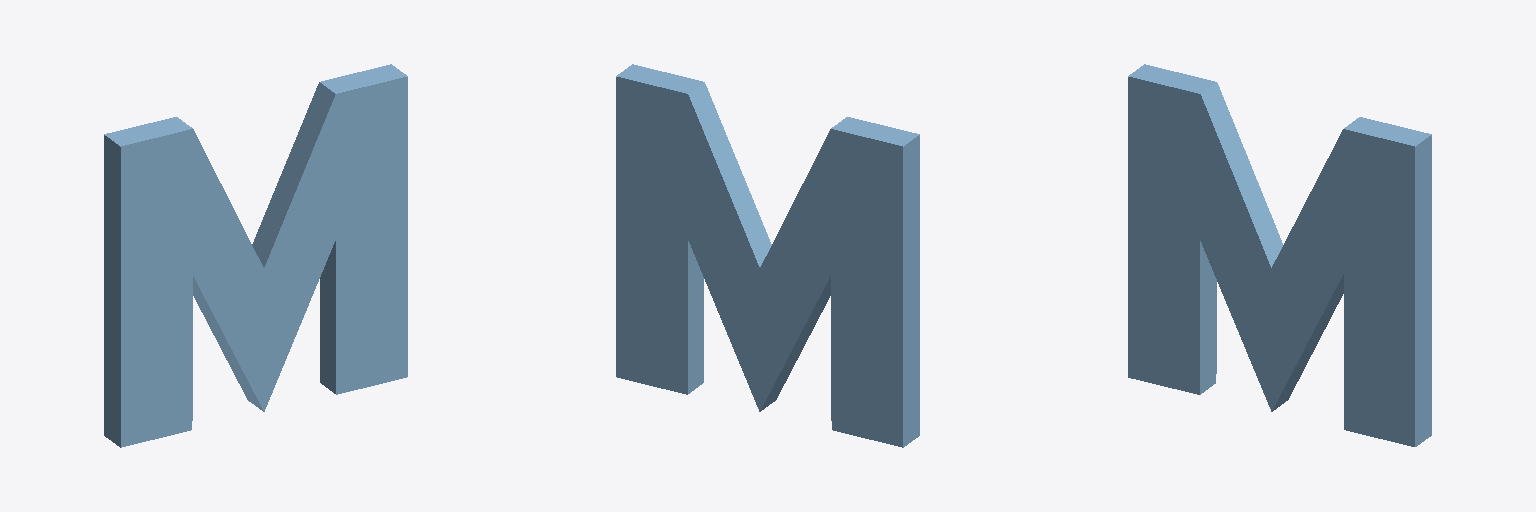
The model's file is tinker.obj.
3 renders of one model, left to right at view 1: azimuth 30°, elevation 25°; view 2: azimuth 150°, elevation 25°; view 3: azimuth 330°, elevation 25°, orthographic.
Parts seen in each view (by area): view 1: obj_0; view 2: obj_0; view 3: obj_0.
Part boxes in pixels (bbox=[...]): obj_0: bbox=[104, 64, 407, 447]; obj_0: bbox=[616, 64, 919, 447]; obj_0: bbox=[1128, 64, 1431, 446].
Size of the model in its own units: 200 by 200 by 20.